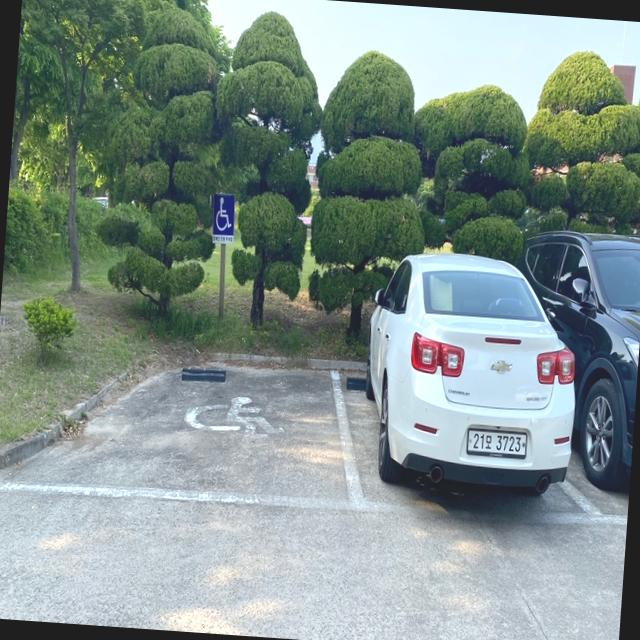car: (352, 248, 590, 502)
free: (0, 362, 370, 514)
